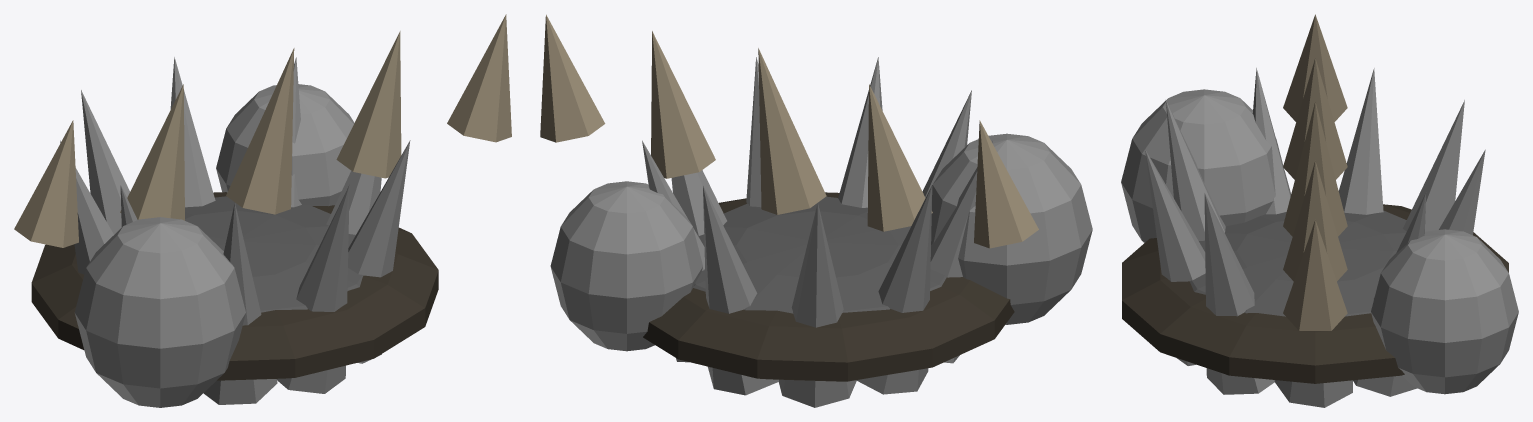
File: bl_deeppit.glb
The picture shows the model from 3 angles, left to right: view 1: azimuth 30°, elevation 25°; view 2: azimuth 150°, elevation 25°; view 3: azimuth 270°, elevation 25°; orthographic projection. The views are drawn at different scales.
Visible parts, largest first — view 1: body; view 2: body; view 3: body.
Part boxes in pixels (x1=…): body: x1=14, y1=14, x2=511, y2=407; body: x1=540, y1=14, x2=1092, y2=407; body: x1=1121, y1=14, x2=1518, y2=407.
Size of the model in its own units: 131 by 73.36 by 96.32.
